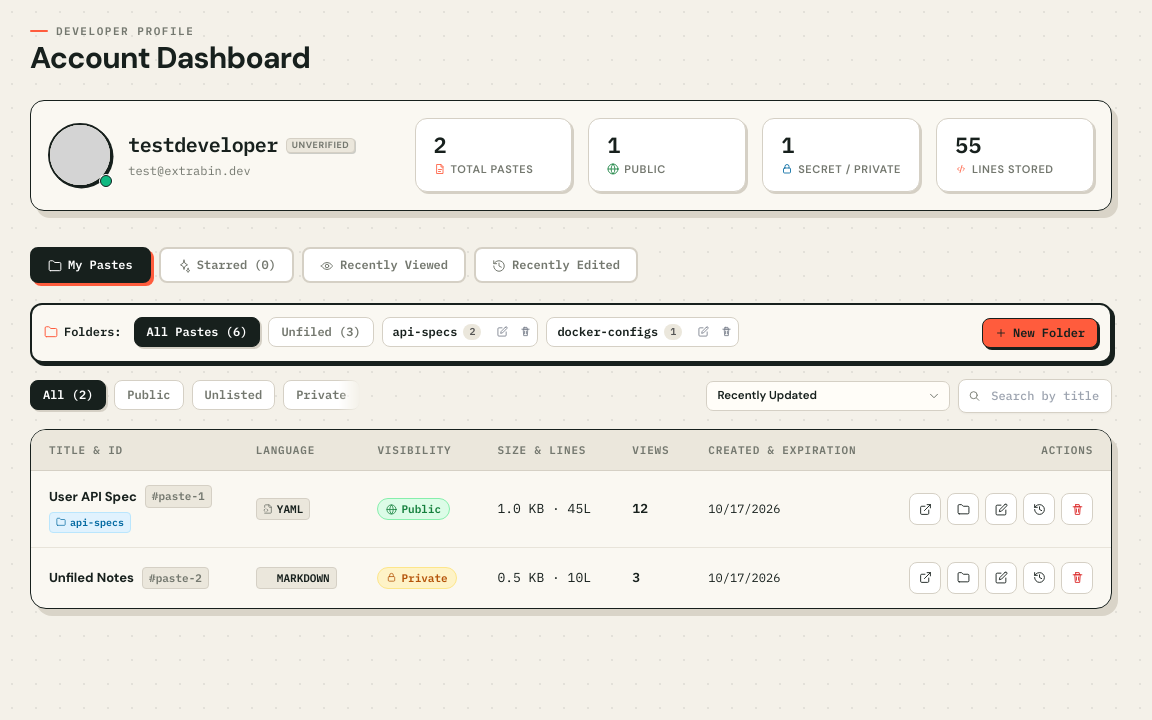
Test case: Folders and Organization UI › opens delete folder modal with orphan-handling warning
Step 1. Click the button named "Delete folder api-specs" → (526, 332), box x1=514 y1=320 x2=537 y2=343
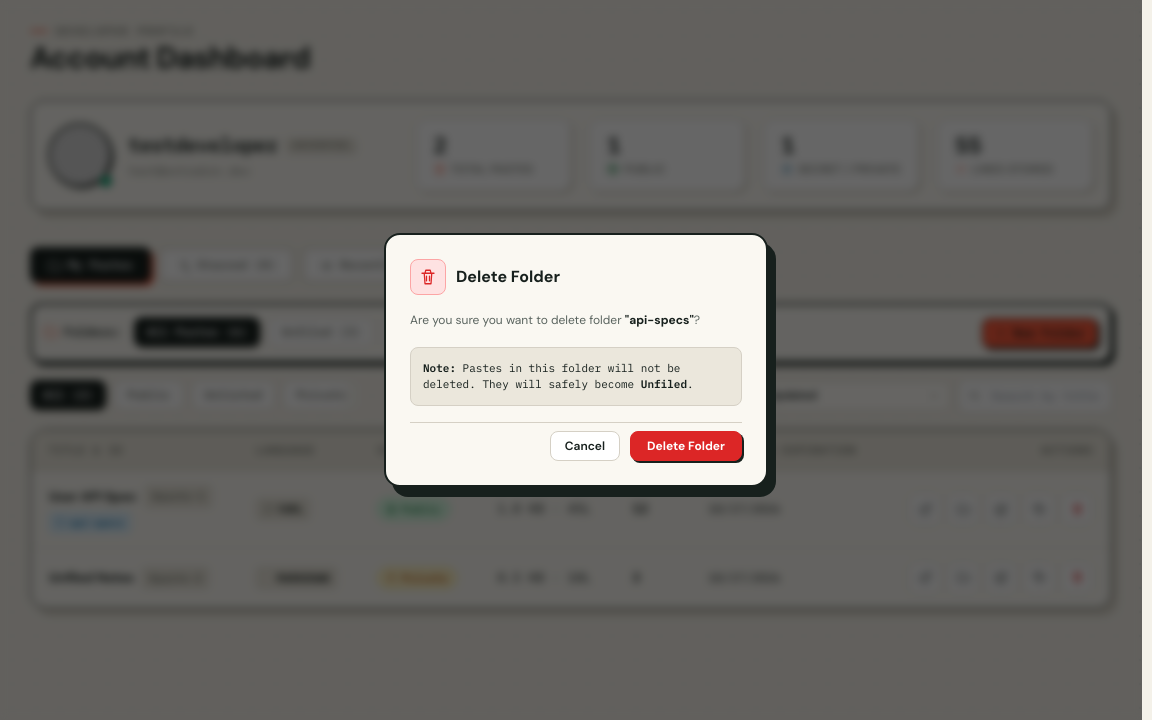
Expected: the text "Are you sure you want to delete folder \"api-specs\"?" is shown, x1=410 y1=311 x2=742 y2=331
Expected: the text "safely become" is shown, x1=423 y1=361 x2=680 y2=391
Expected: the button "Delete Folder" is shown, x1=630 y1=431 x2=742 y2=461
